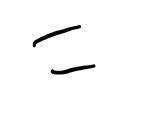eqv: (33, 25, 95, 75)
